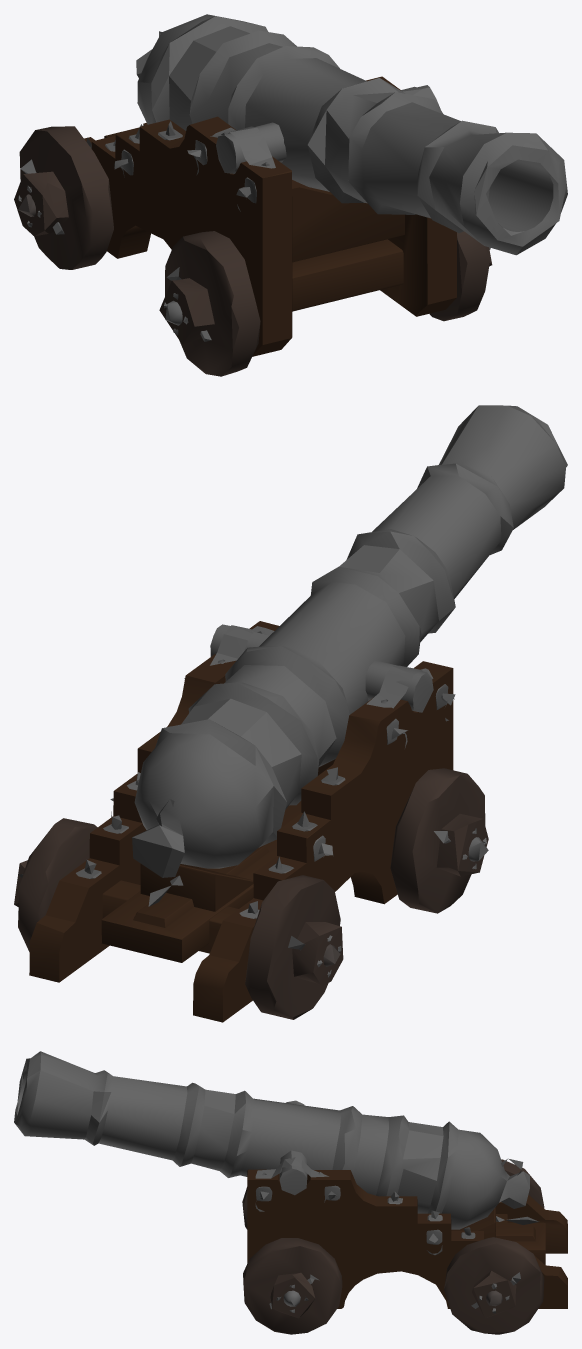
The model's file is cannon.glb.
The picture shows the model from 3 angles, top to bottom: view 1: azimuth 30°, elevation 25°; view 2: azimuth 150°, elevation 25°; view 3: azimuth 270°, elevation 25°; orthographic projection. The views are drawn at different scales.
Parts seen in each view (by area): view 1: cannon; view 2: cannon; view 3: cannon.
Part boxes in pixels (<box>): cannon: <box>14,14,567,376</box>; cannon: <box>14,405,567,1022</box>; cannon: <box>14,1051,567,1334</box>.
Bounding box in the file's own units: 1.25 × 1.26 × 2.67.
